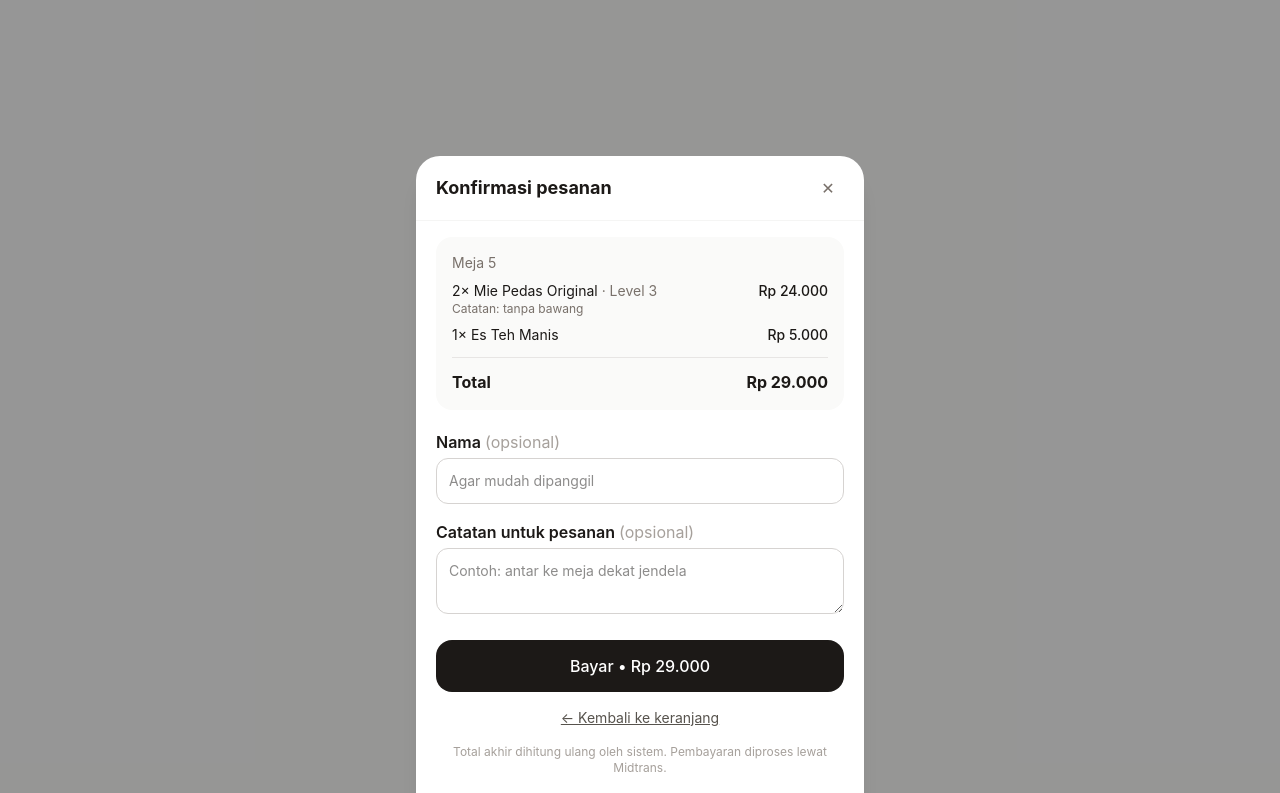
Test: CheckoutSheet › menampilkan pesan yang sesuai untuk status 404 dan menjaga keranjang
The width and height of the screenshot is (1280, 793).
Click the button "Bayar • Rp 29.000": (640, 666) [436,640,844,692]
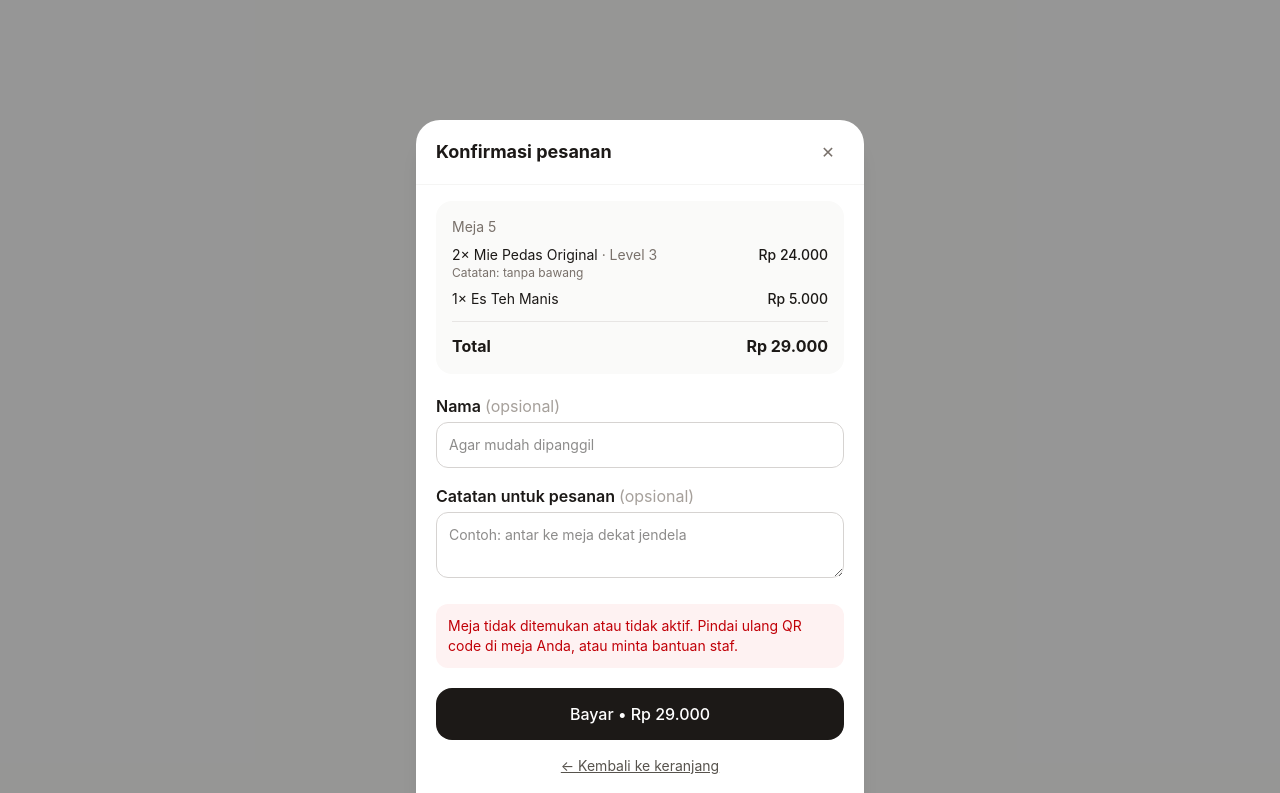
Expected: the message shows "Meja tidak ditemukan", [448,617,802,654]
